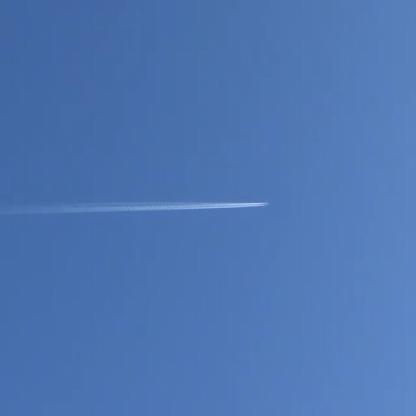CIV_Plane: (262, 196, 274, 209)
